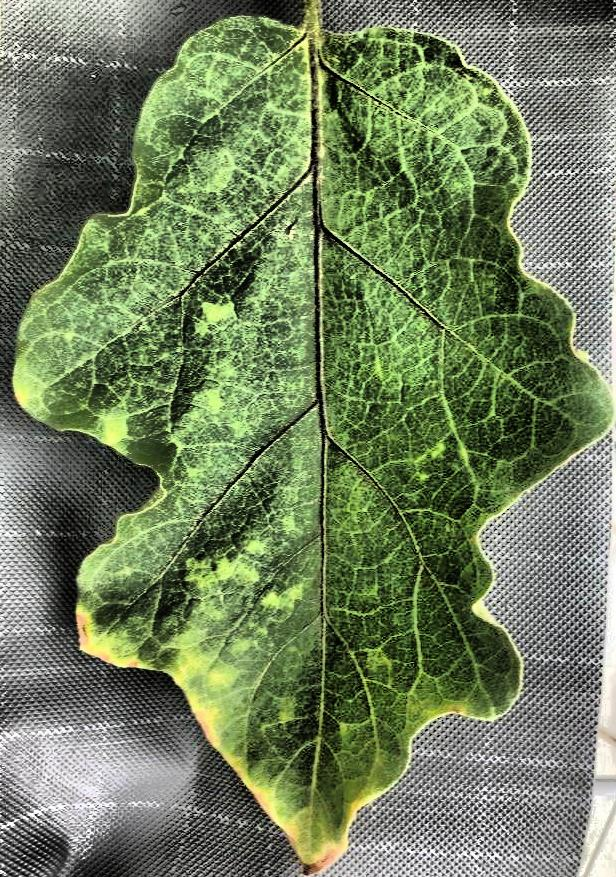Non-critical Stress: (0, 1, 616, 877)
